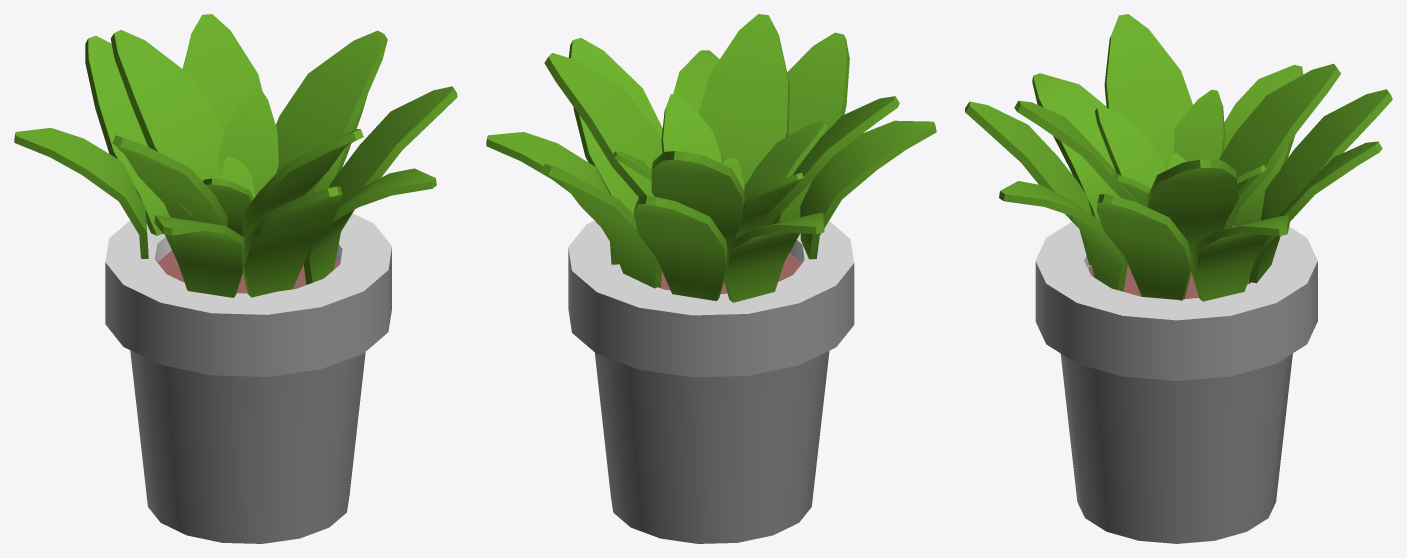
The model's file is Plant.fbx.
3 renders of one model, left to right at view 1: azimuth 30°, elevation 25°; view 2: azimuth 150°, elevation 25°; view 3: azimuth 270°, elevation 25°, orthographic. The views are drawn at different scales.
Parts seen in each view (by area): view 1: Plant; view 2: Plant; view 3: Plant.
Part boxes in pixels (x1,y1,x2,y2): Plant: (14,14,457,543); Plant: (486,14,936,543); Plant: (965,14,1392,543).
Bounding box in the file's own units: 399 × 462 × 434.
1 material, 1 textured.
